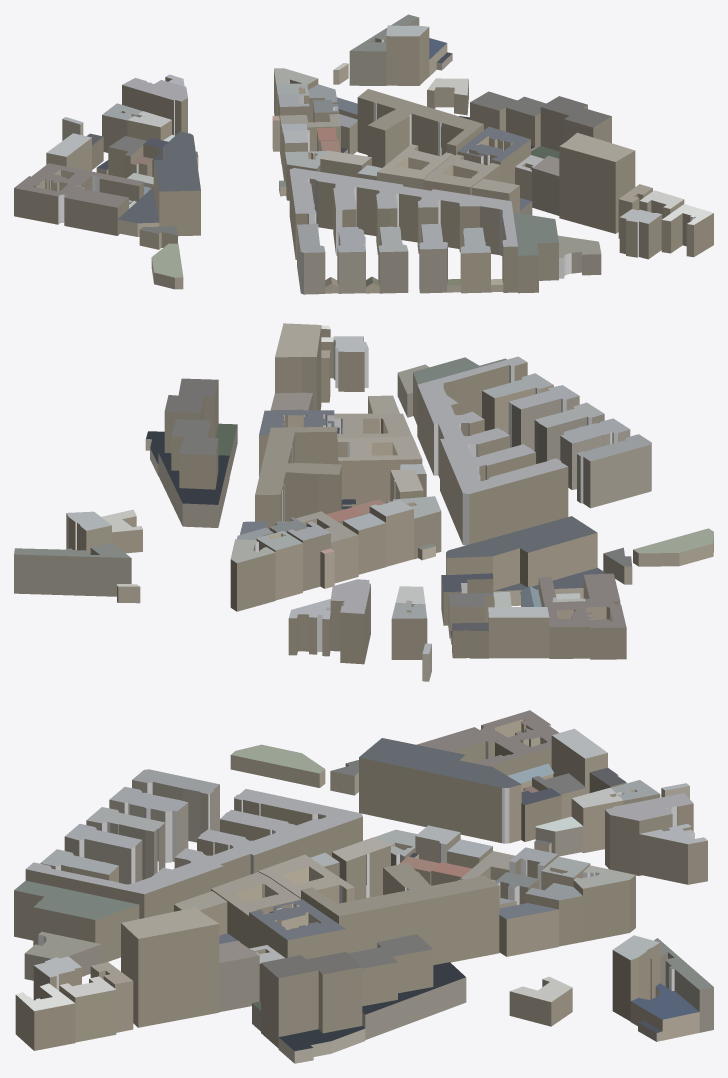
3 views of the same model, one above another, from view 1: azimuth 30°, elevation 25°; view 2: azimuth 150°, elevation 25°; view 3: azimuth 270°, elevation 25° (orthographic). The views are drawn at different scales.
Parts seen in each view (by area): view 1: tuile; view 2: tuile; view 3: tuile.
Part boxes in pixels (x1=…): tuile: x1=14, y1=14, x2=713, y2=294; tuile: x1=14, y1=323, x2=713, y2=681; tuile: x1=14, y1=710, x2=713, y2=1063.
Size of the model in its own units: 287 by 38.63 by 271.
